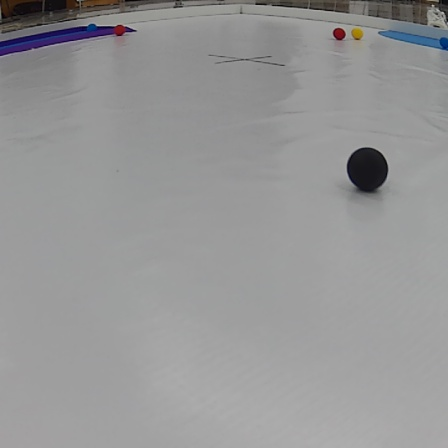black: (344, 144, 388, 192)
blue: (86, 21, 97, 32)
blue_aim: (2, 23, 137, 55)
red: (333, 27, 347, 42), (112, 27, 128, 37)
yellow: (351, 27, 367, 41)
